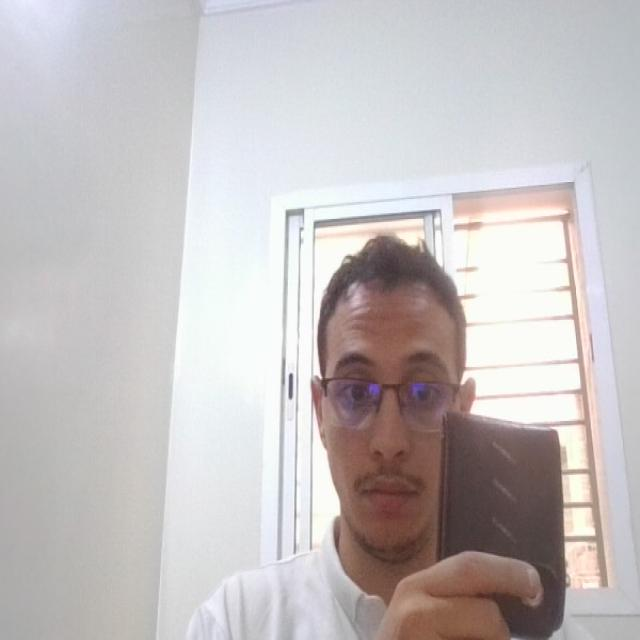wallet: (435, 405, 573, 640)
